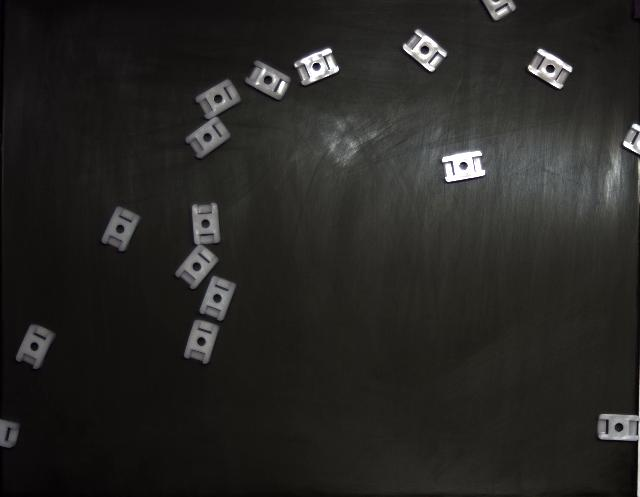second_side: (185, 80, 241, 159), (175, 245, 219, 290), (402, 29, 448, 72), (101, 206, 141, 253), (195, 80, 241, 120), (16, 325, 56, 370), (245, 61, 291, 100), (528, 49, 572, 89), (294, 49, 339, 86), (199, 276, 236, 321), (184, 320, 219, 364), (442, 151, 485, 182), (191, 202, 220, 245), (598, 415, 640, 441)
